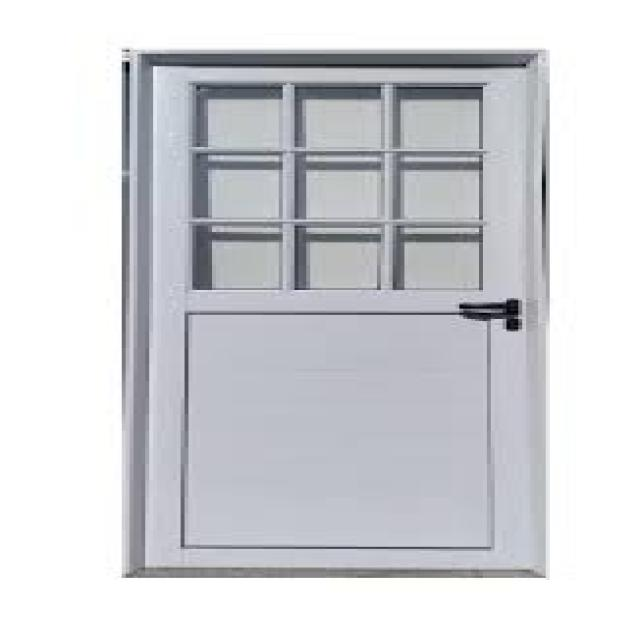door: (128, 50, 548, 576)
